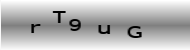9: (68, 18, 81, 31)
G: (126, 24, 143, 39)
T: (50, 9, 68, 25)
r: (30, 22, 41, 34)
u: (97, 23, 111, 35)
